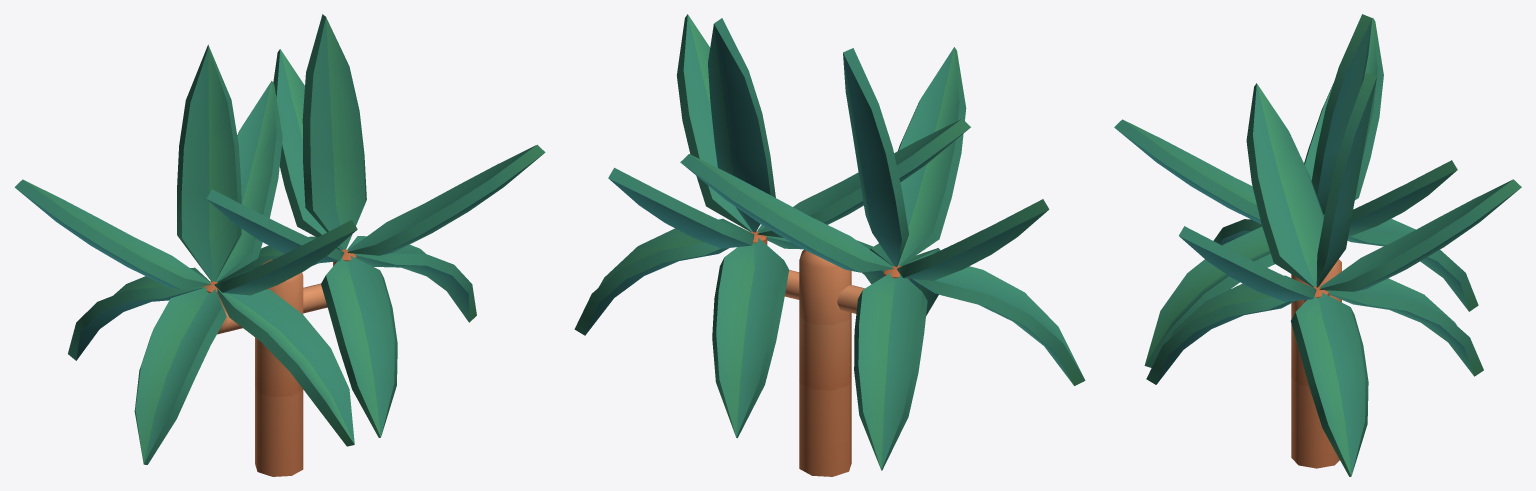
File: Yucca Branch-kZiJbxzogy.glb
3 views of the same model, side by side, from view 1: azimuth 30°, elevation 25°; view 2: azimuth 150°, elevation 25°; view 3: azimuth 270°, elevation 25° (orthographic). The views are drawn at different scales.
Visible parts, largest first — view 1: yucca_branch_medium_A; view 2: yucca_branch_medium_A; view 3: yucca_branch_medium_A.
Boxes of the visible parts, left/top/right/bottom form: yucca_branch_medium_A: left=14, top=14, right=545, bottom=476; yucca_branch_medium_A: left=574, top=14, right=1085, bottom=476; yucca_branch_medium_A: left=1114, top=14, right=1521, bottom=476.
Size of the model in its own units: 1.22 by 1.07 by 0.9402.
Materials: 1 (1 with a texture image).
